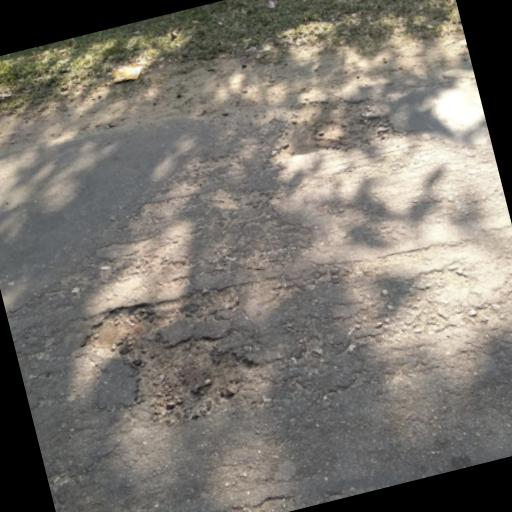pothole: (119, 320, 268, 435), (257, 79, 403, 171), (73, 294, 169, 366)
